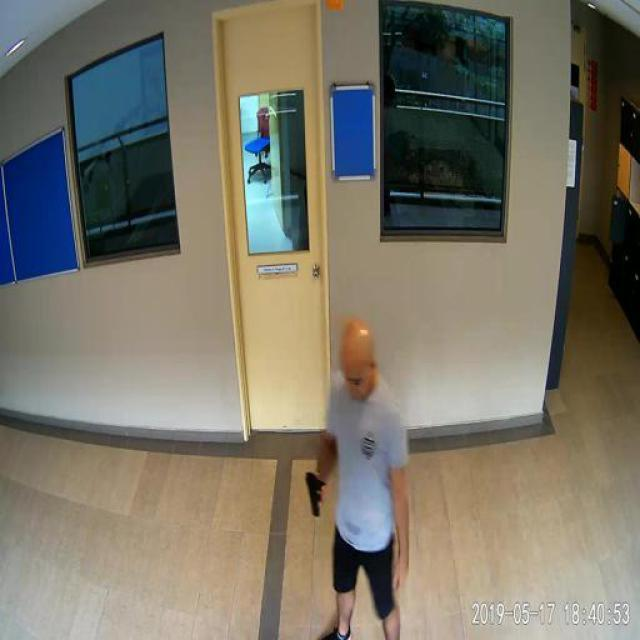weapon: (304, 470, 326, 518)
